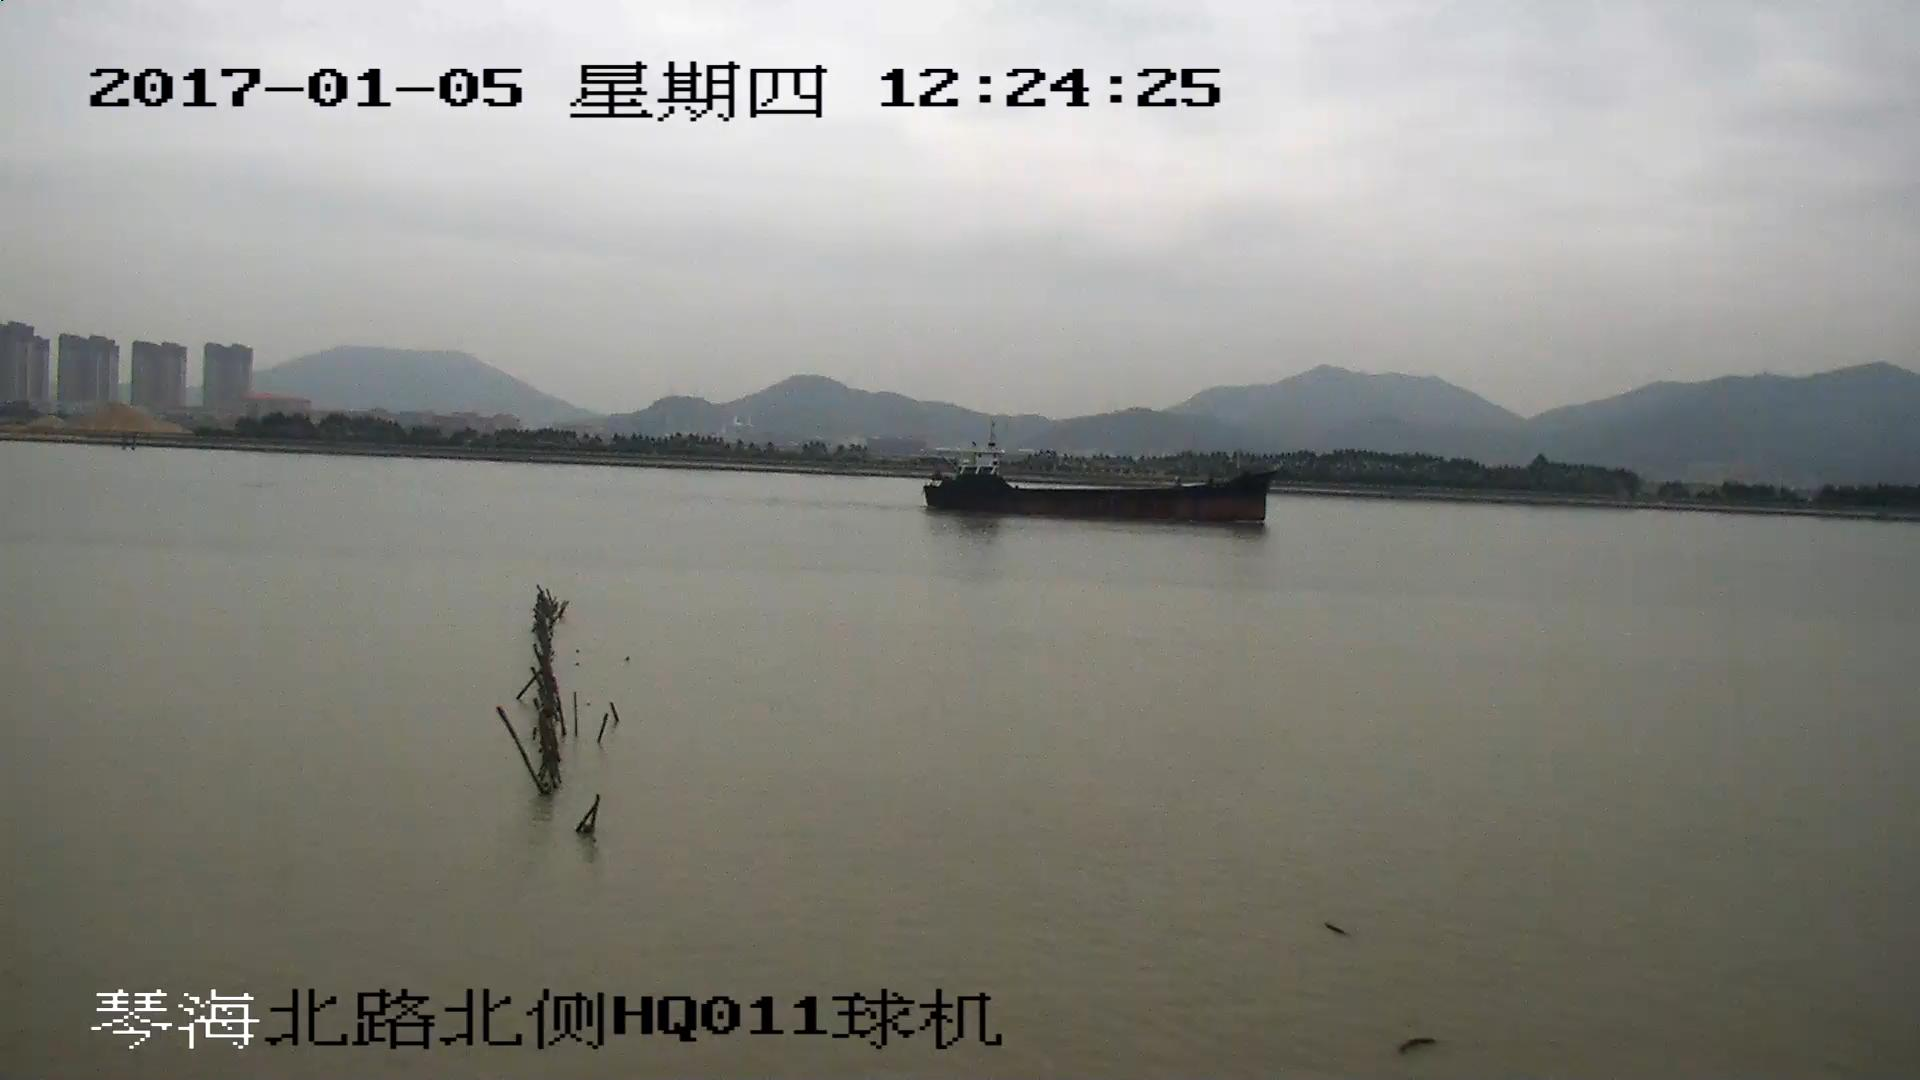general cargo ship: (914, 447, 1276, 526)
